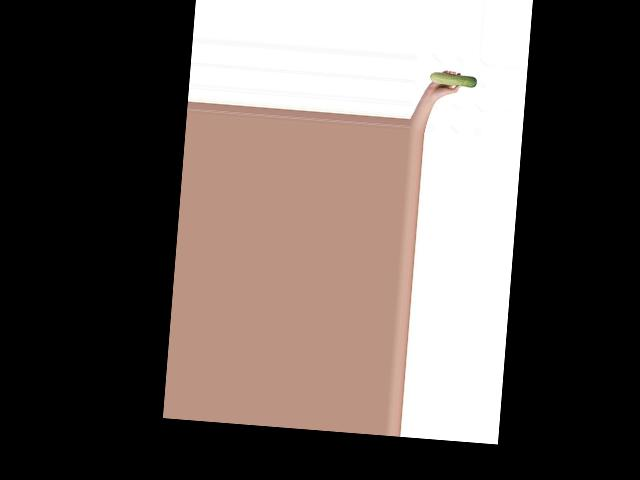cucumber: (428, 72, 477, 88)
